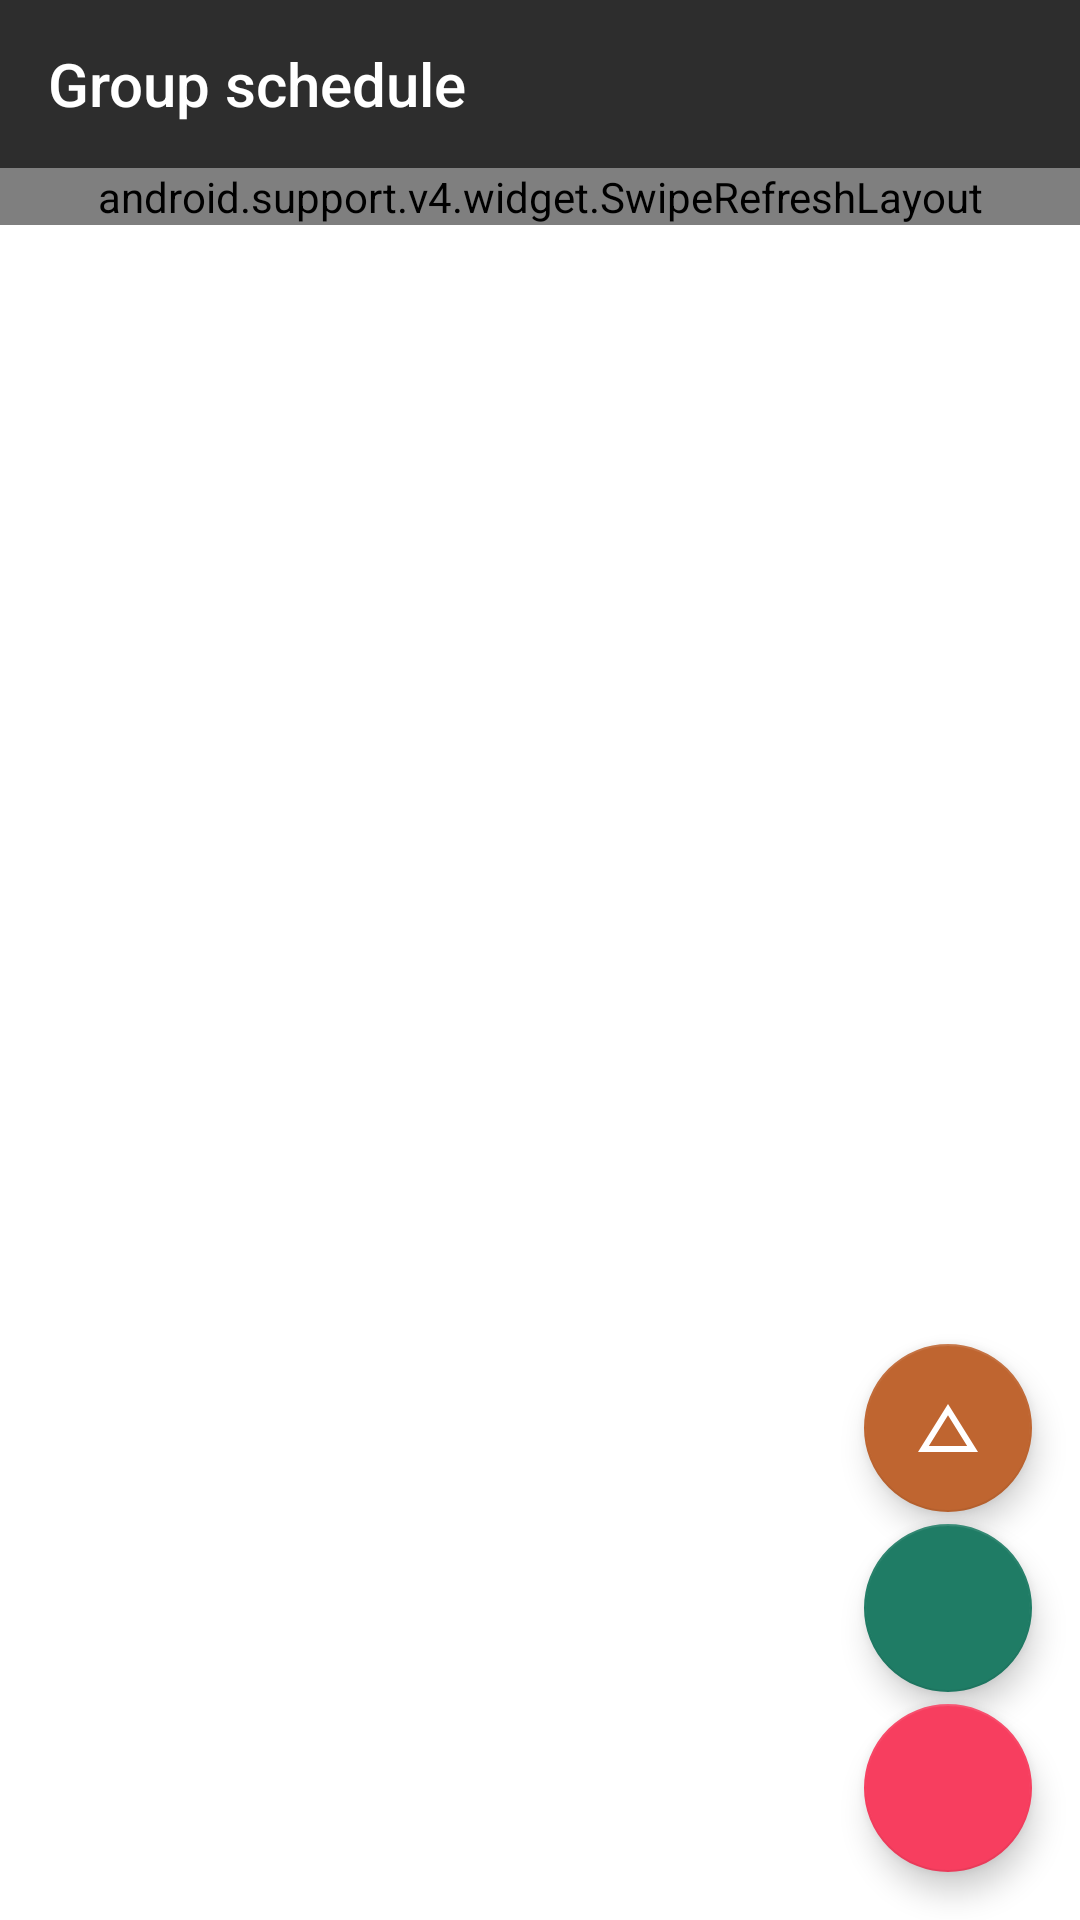

Where to tap for icons on this 1080px×1920px app screen, as (x,y):
change history: (948,1428)
